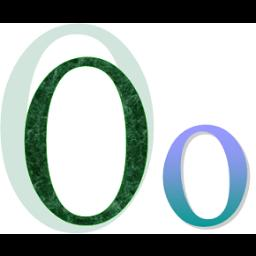o: (19, 58, 157, 228), (160, 112, 248, 234)
